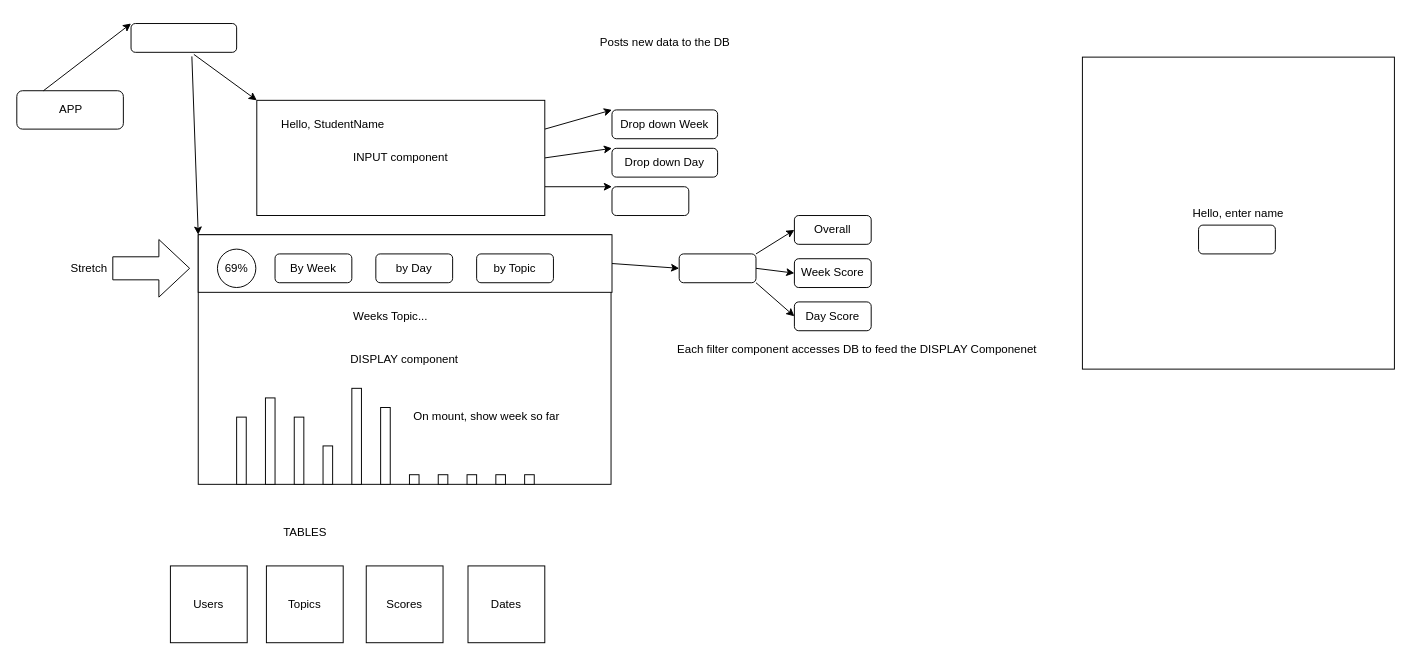
Some shapes in this 1411 by 660 pixel diagram are drawn without their labels. The shapes that lost their labels are listed below. From the top down, each one's centre as x and y in pixels, then its label:
At (x=183, y=37): "Welcome".
At (x=650, y=201): "Input Score DD".
At (x=1236, y=239): "Name".
At (x=717, y=268): "Overview nav".
